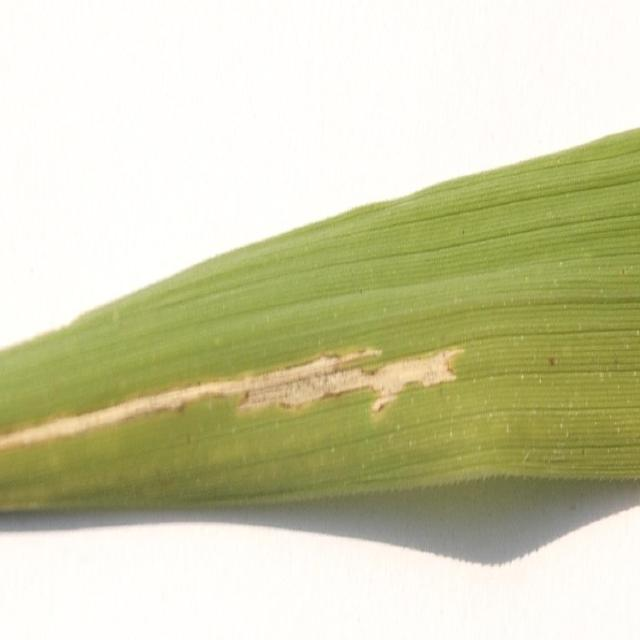Bacterial_Leaf_Blight: (47, 314, 471, 448)
